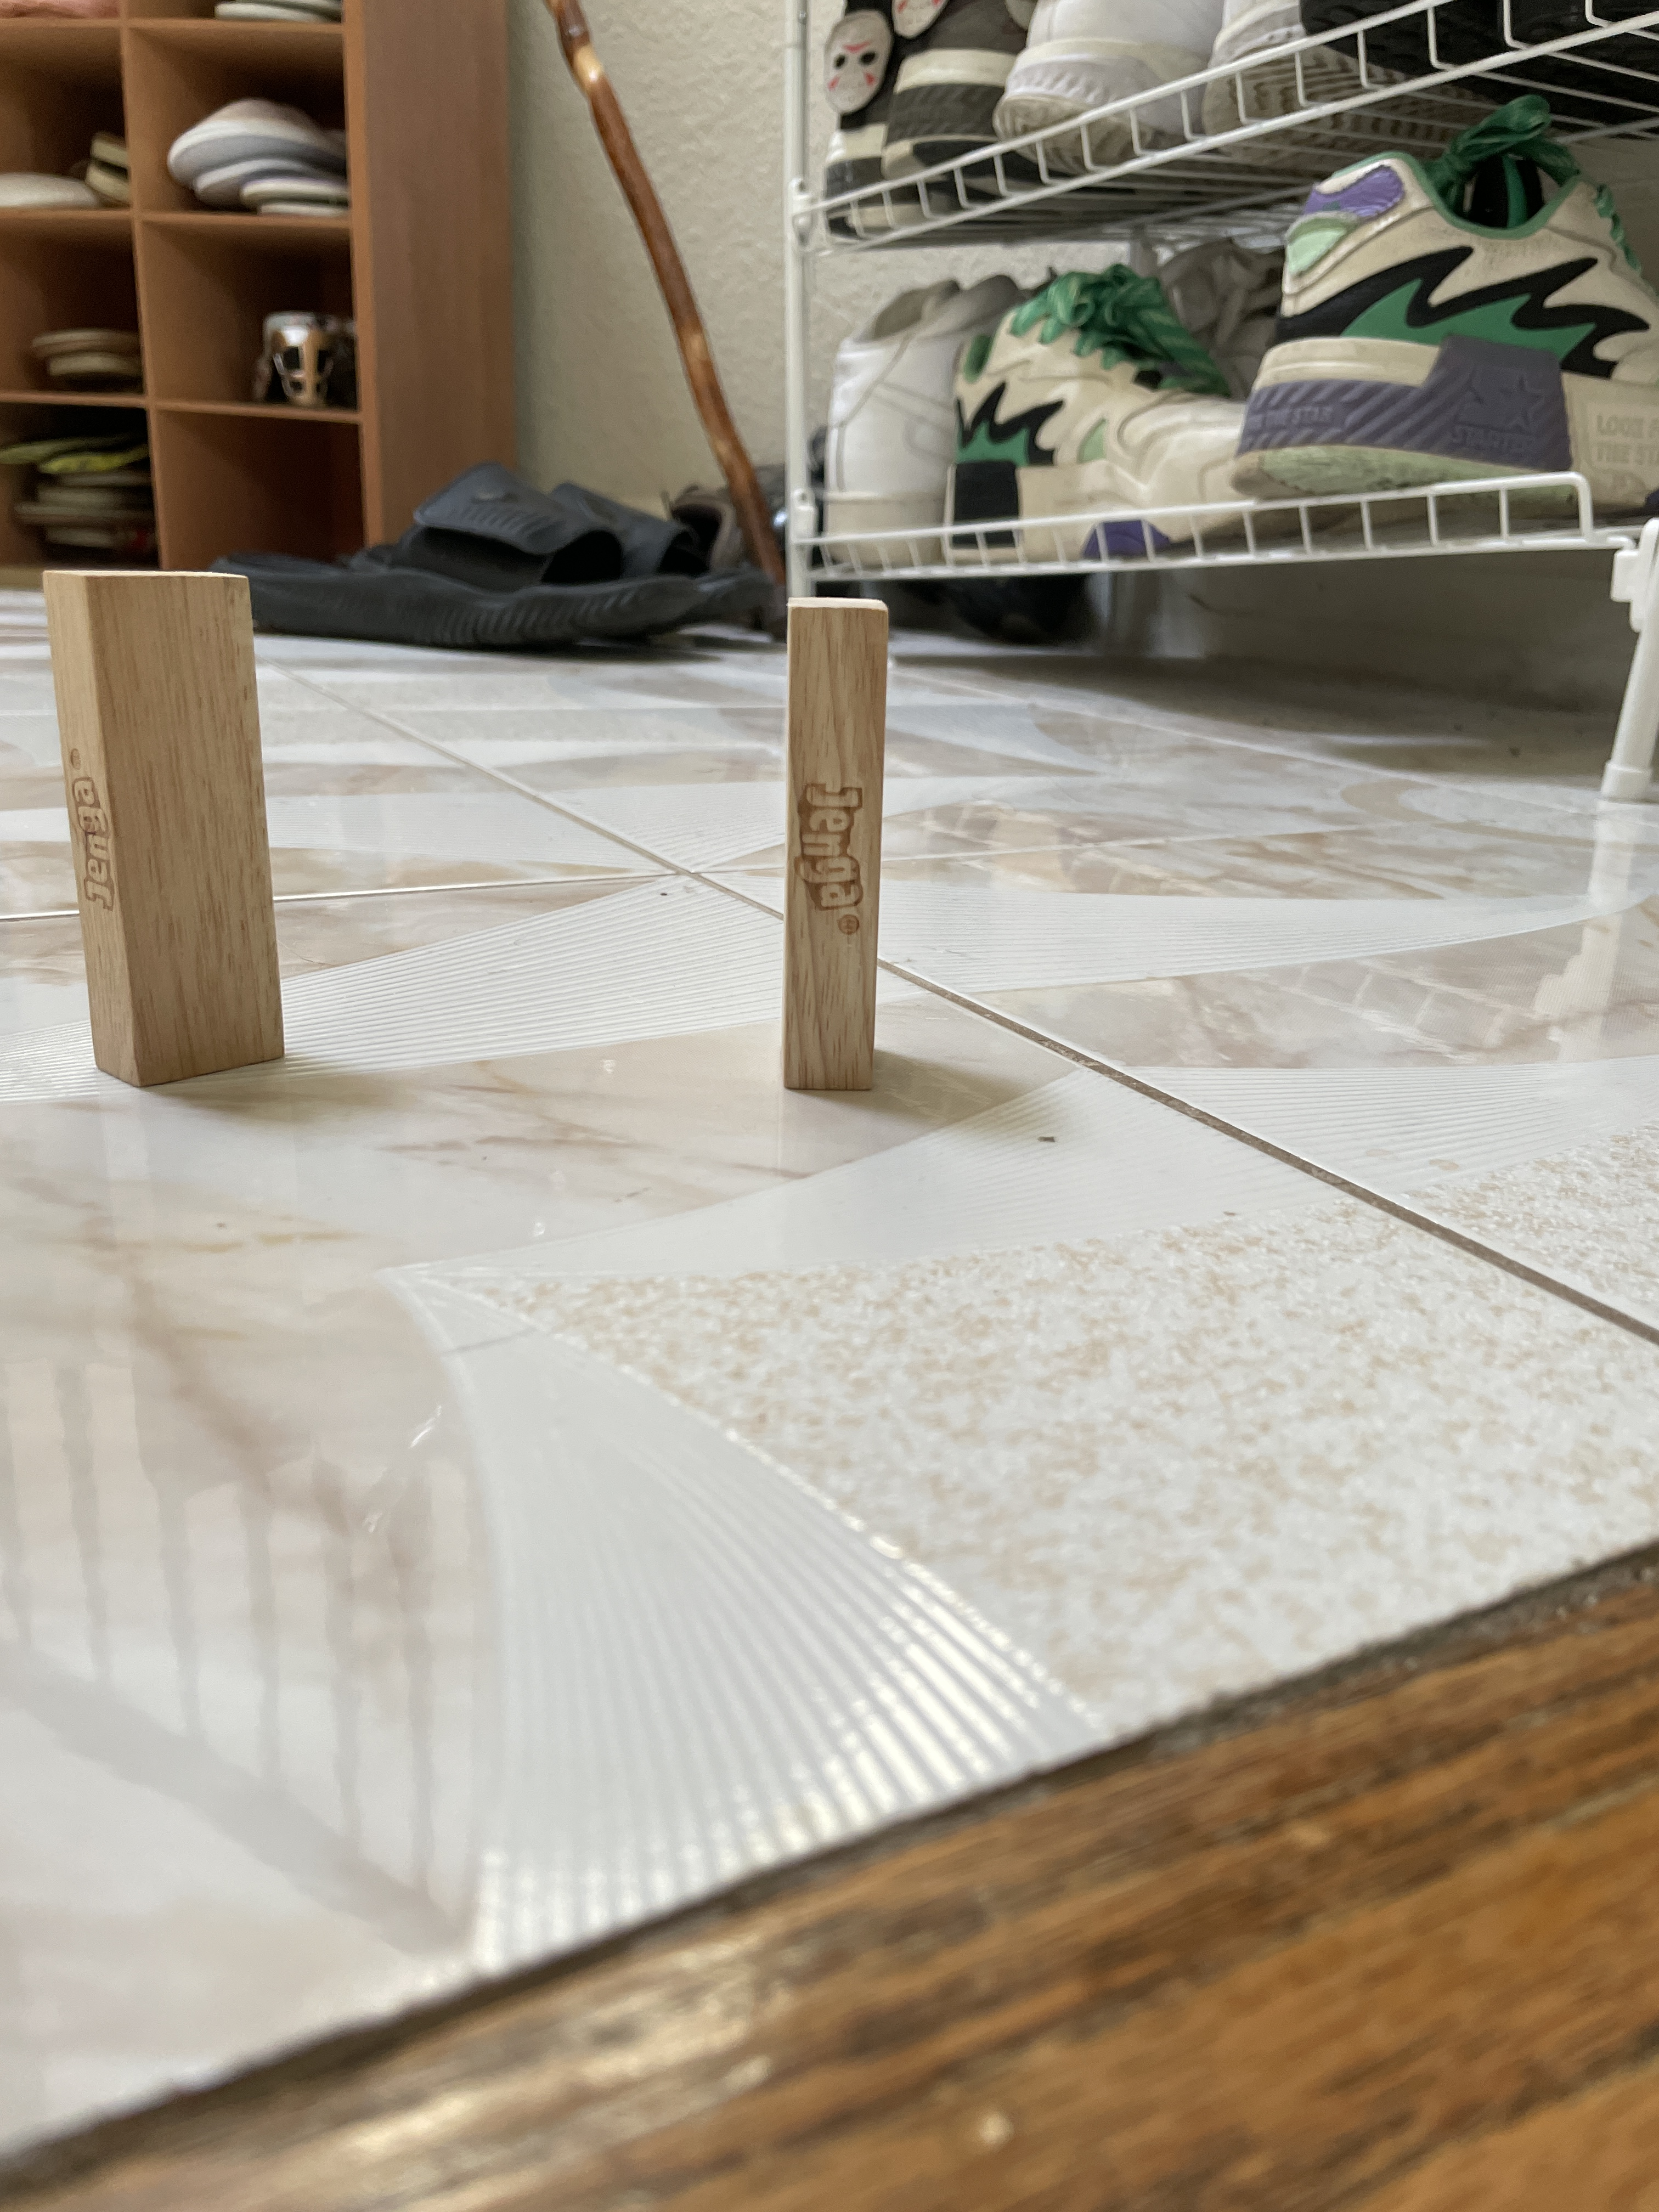jenga: (38, 556, 342, 1090), (758, 582, 894, 1092)
